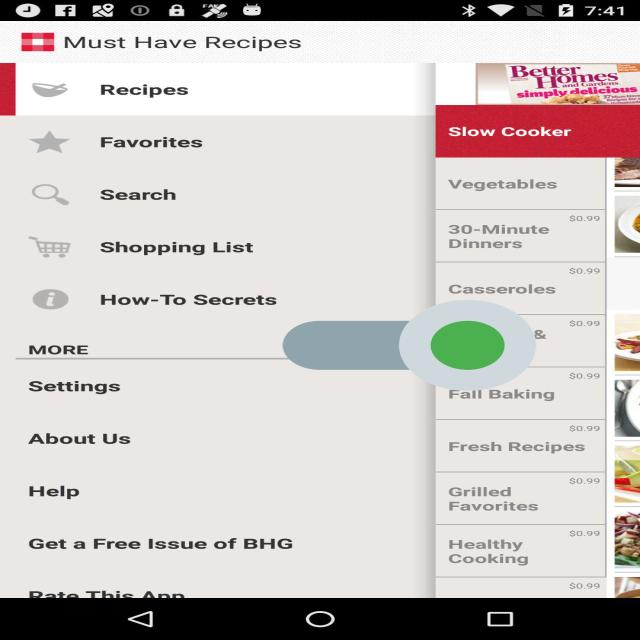social proof: (283, 262, 536, 429)
